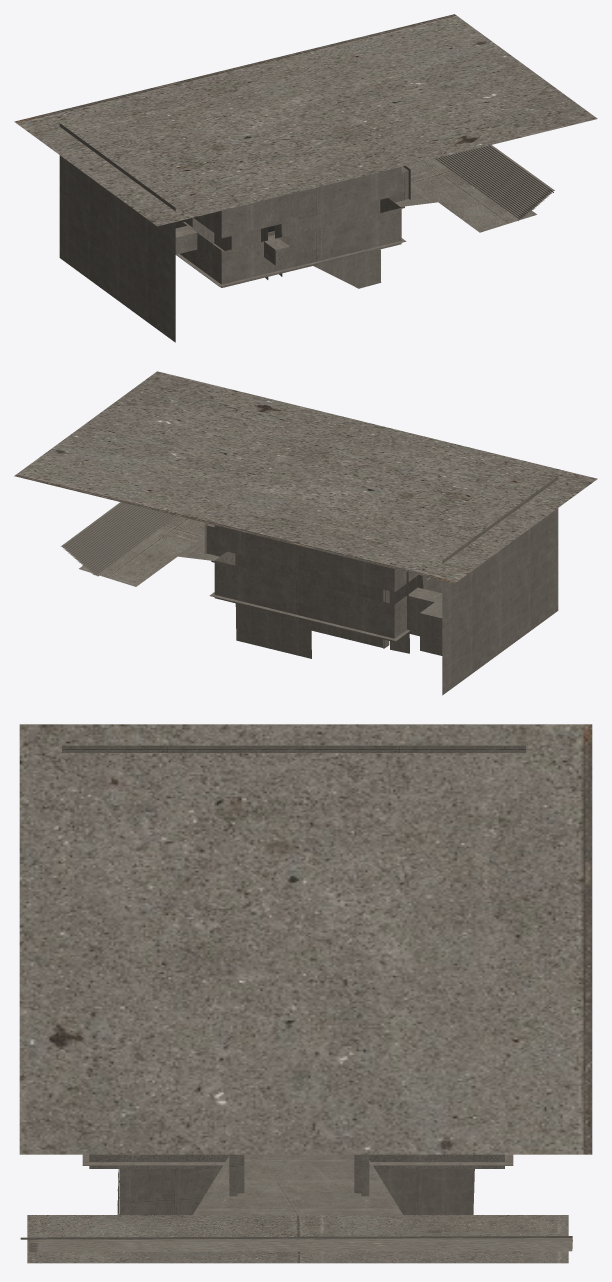
File: 3drop_gallery_v33.glb
3 renders of one model, top to bottom at view 1: azimuth 30°, elevation 25°; view 2: azimuth 150°, elevation 25°; view 3: azimuth 270°, elevation 25°, orthographic. The views are drawn at different scales.
Parts seen in each view (by area): view 1: frameConcreteExternalTop, frameConcreteExternal, entranceStairsPath, frameVisitableZoneSuround, entrancePlateformConcrete_grndPhys, ctrlPlateformConcrete_grndPhys; view 2: frameConcreteExternalTop, frameConcreteExternal, frameVisitableZoneSuround, entranceStairsPath, entrancePlateformConcrete_grndPhys, ctrlPlateformConcrete_grndPhys; view 3: frameConcreteExternalTop, entrancePlateformConcrete_grndPhys, ctrlPlateformConcrete_grndPhys, entranceStairsPath, frameVisitableZoneSuround, frameConcreteExternal, entranceLobbyConcrete.
Part boxes in pixels (x1,y1,x2,y2): frameConcreteExternalTop: [14, 14, 597, 226]; frameConcreteExternal: [59, 123, 404, 342]; entranceStairsPath: [435, 145, 554, 220]; frameVisitableZoneSuround: [181, 200, 381, 288]; entrancePlateformConcrete_grndPhys: [406, 158, 536, 232]; ctrlPlateformConcrete_grndPhys: [176, 181, 439, 286]; frameConcreteExternalTop: [14, 371, 597, 583]; frameConcreteExternal: [211, 476, 558, 695]; frameVisitableZoneSuround: [235, 553, 428, 658]; entranceStairsPath: [61, 502, 175, 576]; entrancePlateformConcrete_grndPhys: [79, 516, 205, 586]; ctrlPlateformConcrete_grndPhys: [176, 536, 409, 641]; frameConcreteExternalTop: [19, 724, 592, 1154]; entrancePlateformConcrete_grndPhys: [27, 1215, 568, 1263]; ctrlPlateformConcrete_grndPhys: [82, 1154, 513, 1215]; entranceStairsPath: [20, 1236, 572, 1252]; frameVisitableZoneSuround: [117, 1169, 474, 1214]; frameConcreteExternal: [62, 745, 525, 1168]; entranceLobbyConcrete: [229, 1154, 369, 1196].
Bounding box in the file's own units: 196 × 62.19 × 110.
2 materials, 2 textured.
